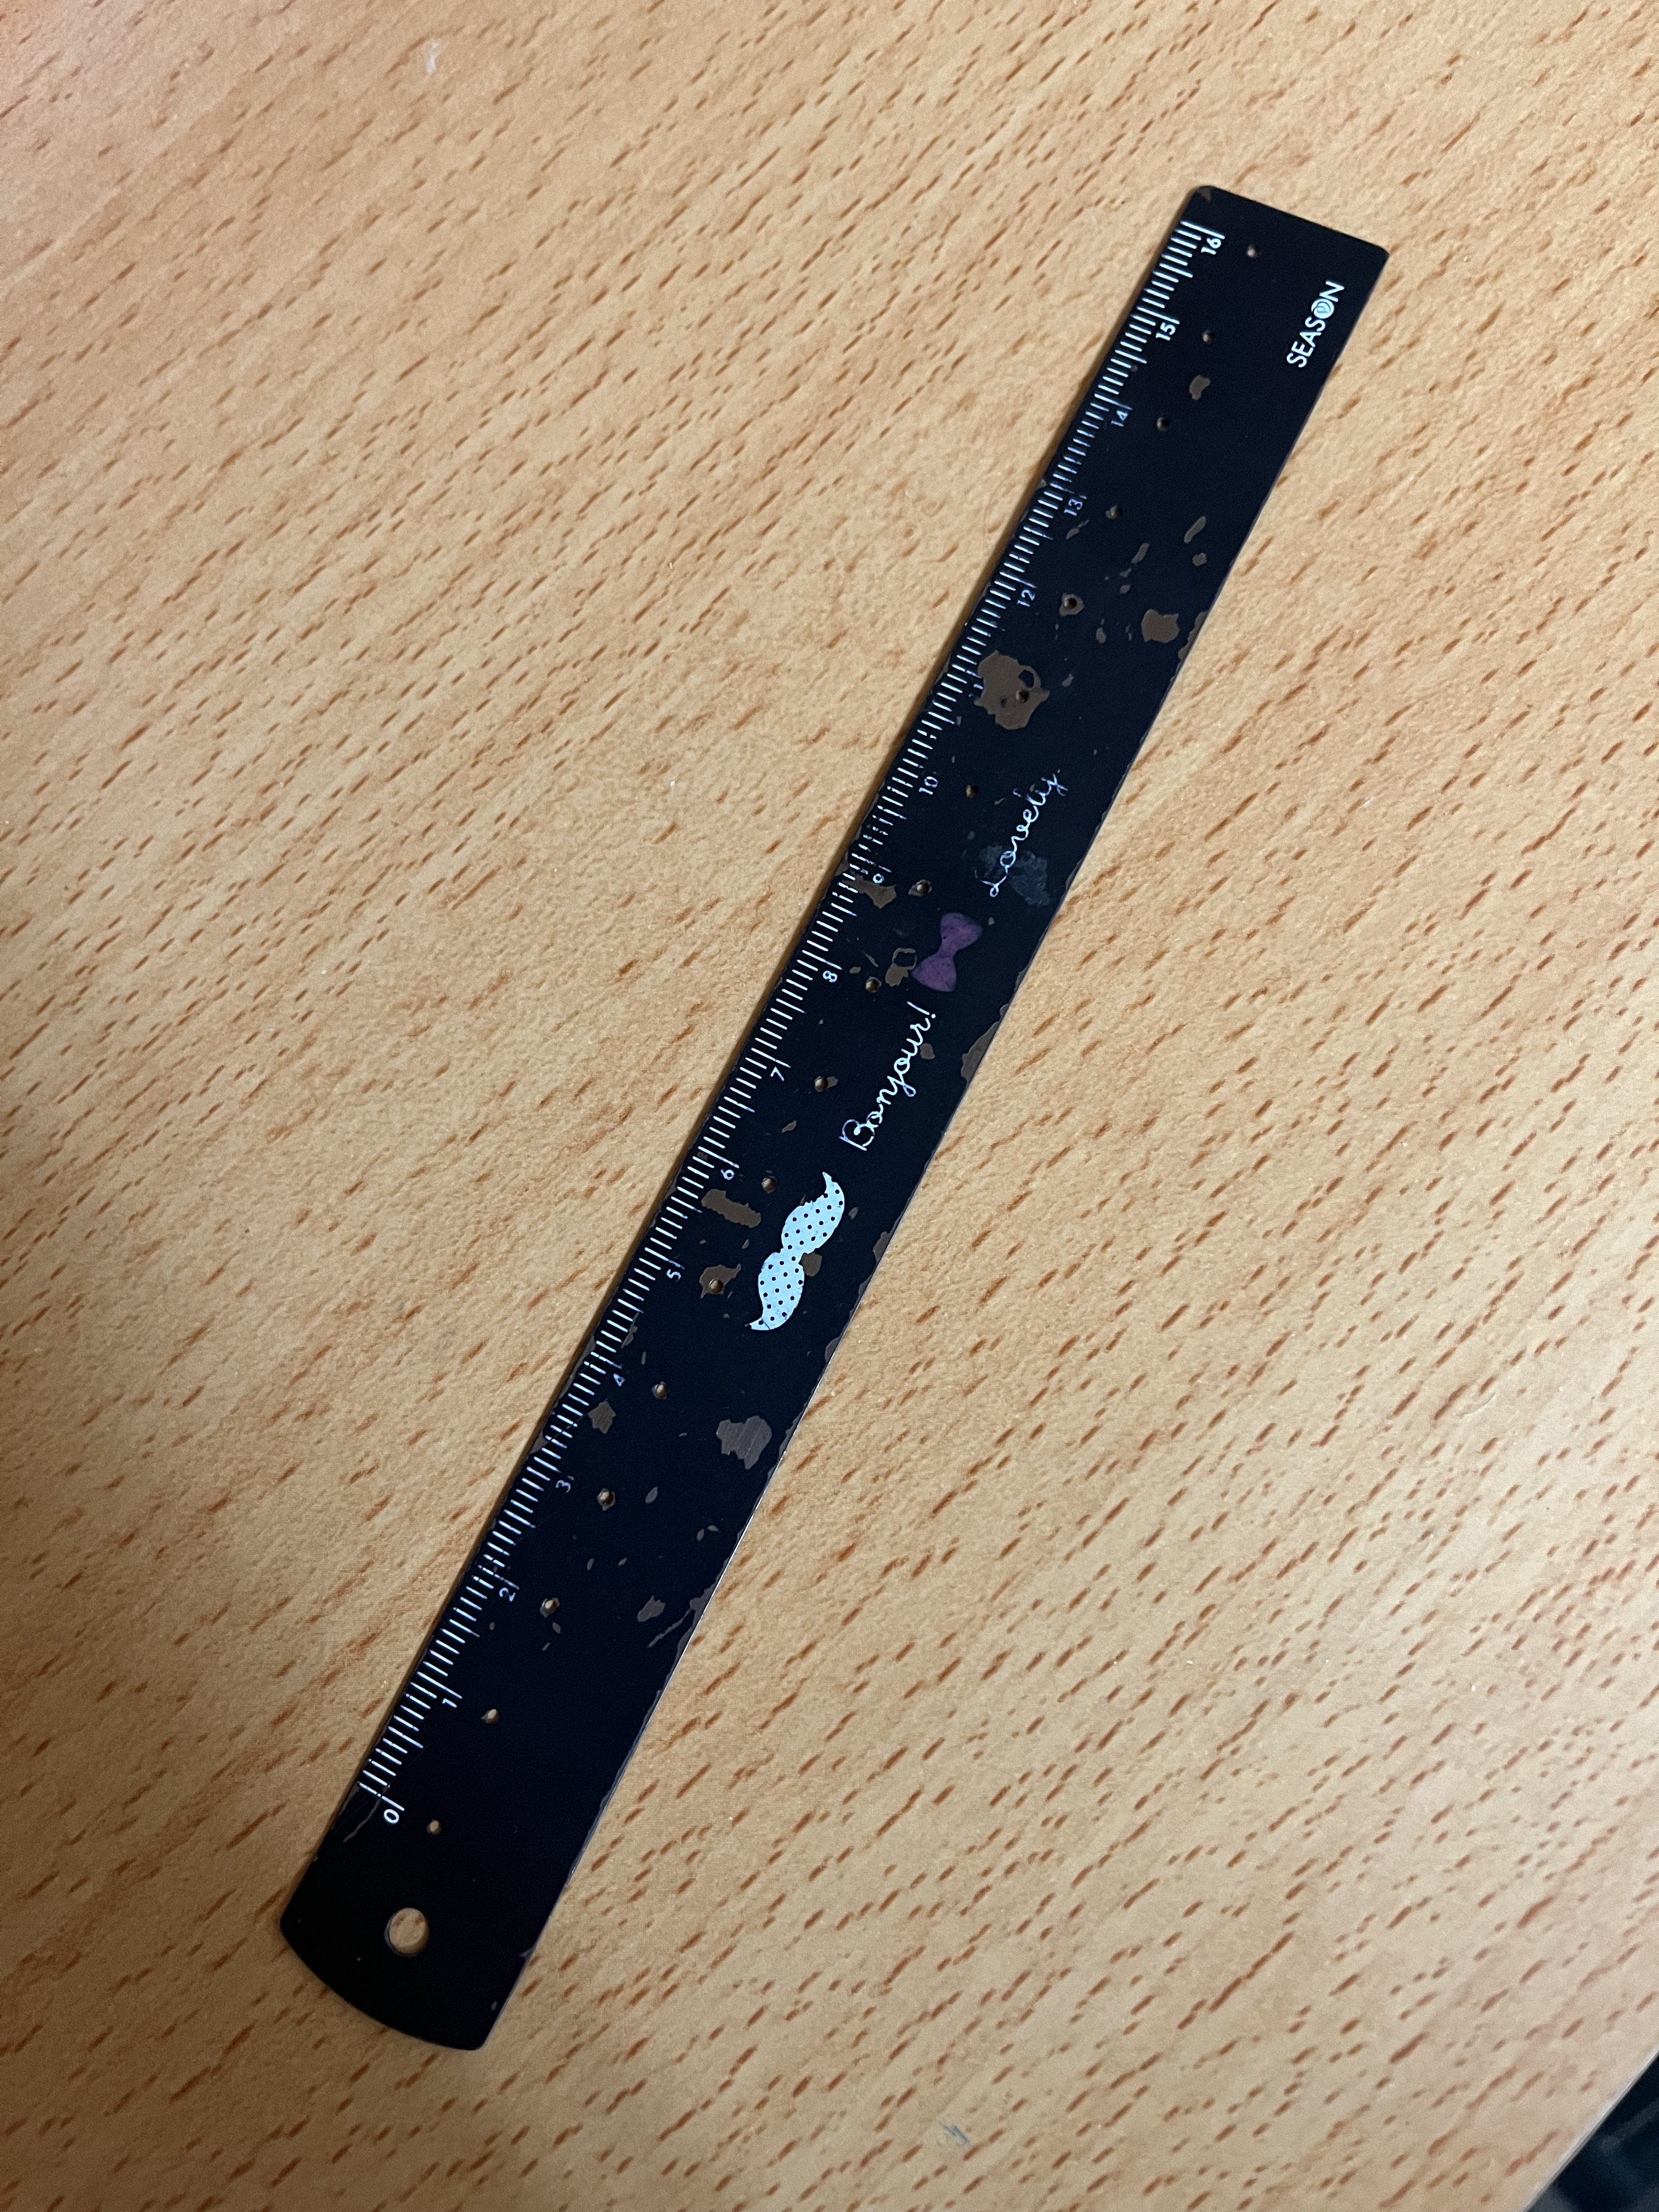ruler: (256, 157, 1406, 2088)
